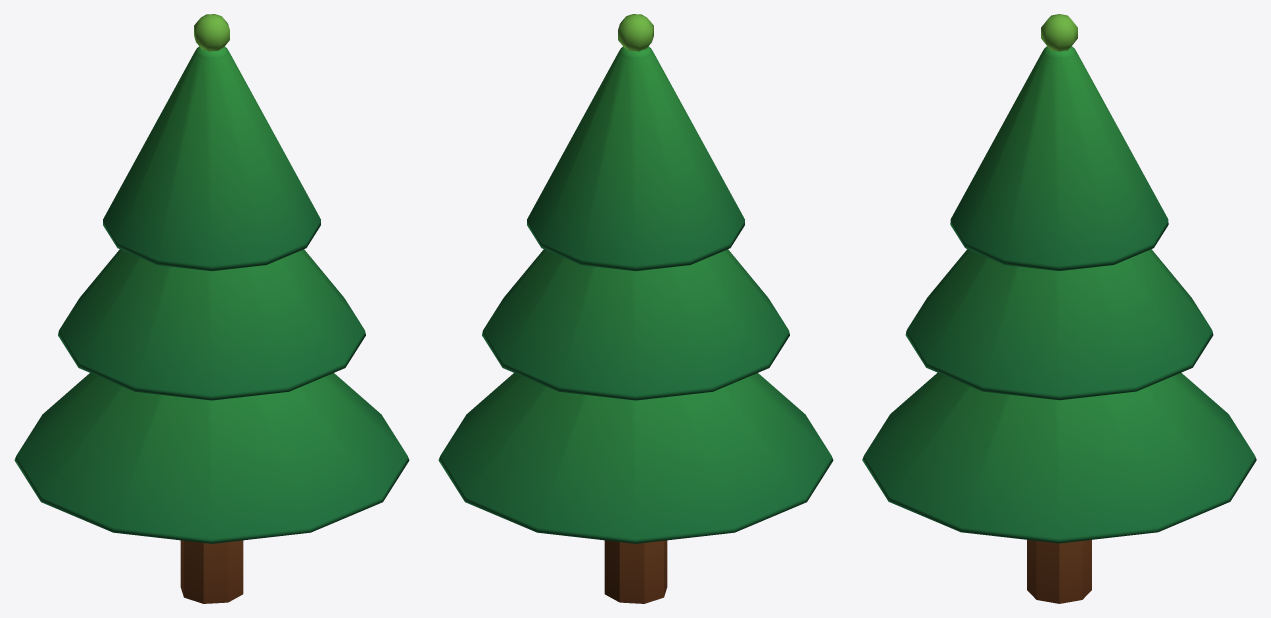
File: ENV_Pine.glb
3 renders of one model, left to right at view 1: azimuth 30°, elevation 25°; view 2: azimuth 150°, elevation 25°; view 3: azimuth 270°, elevation 25°, orthographic.
Visible parts, largest first — view 1: Pine; view 2: Pine; view 3: Pine.
Boxes of the visible parts, x1,y1,x2,y2 form: Pine: (14,14,409,603); Pine: (438,14,833,603); Pine: (862,14,1256,603).
Size of the model in its own units: 2.44 by 3.92 by 2.44.
